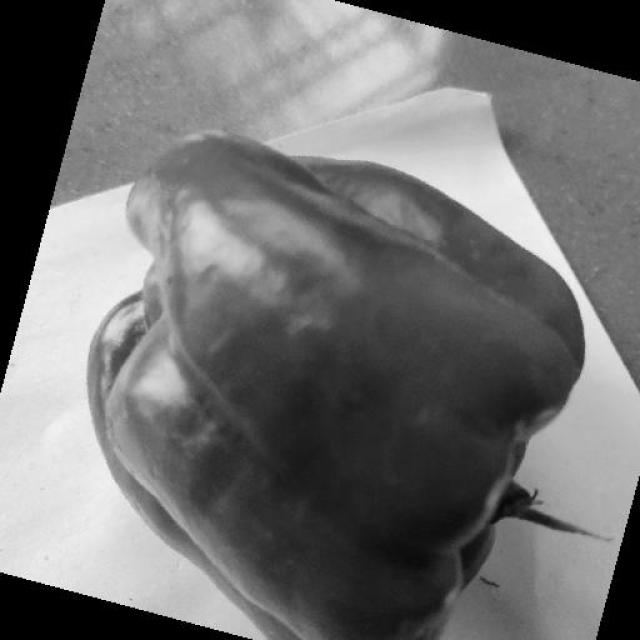Stale_Capsicum: (85, 113, 493, 640)
